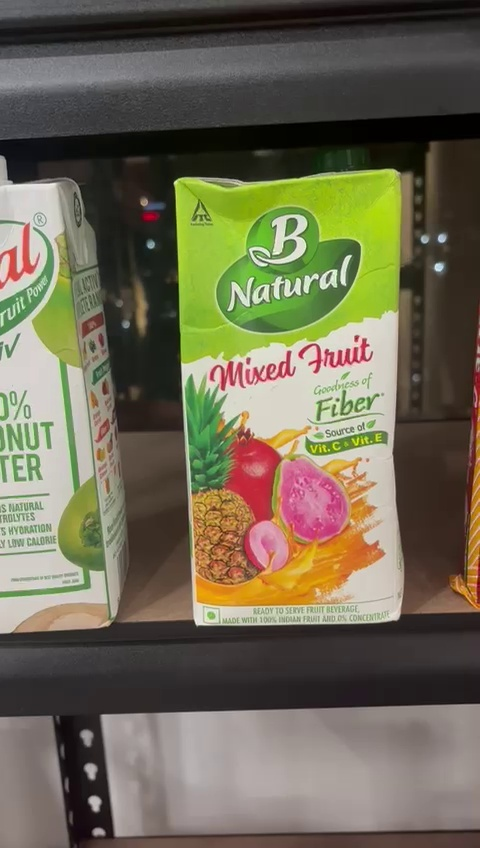Mixed Fruit: (174, 170, 408, 624)
